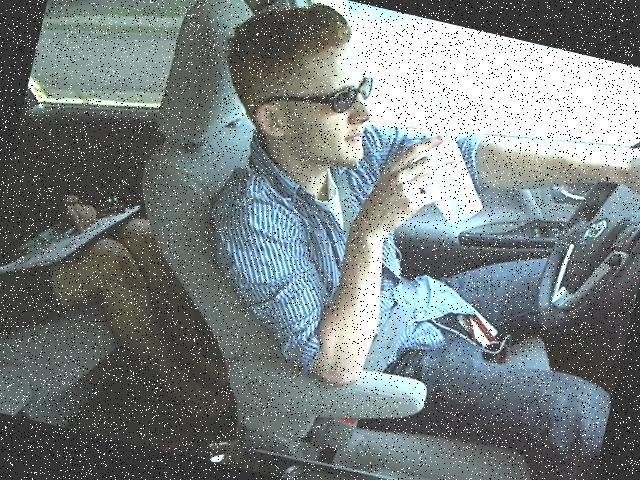c4 - Drinking: (154, 0, 639, 449)
